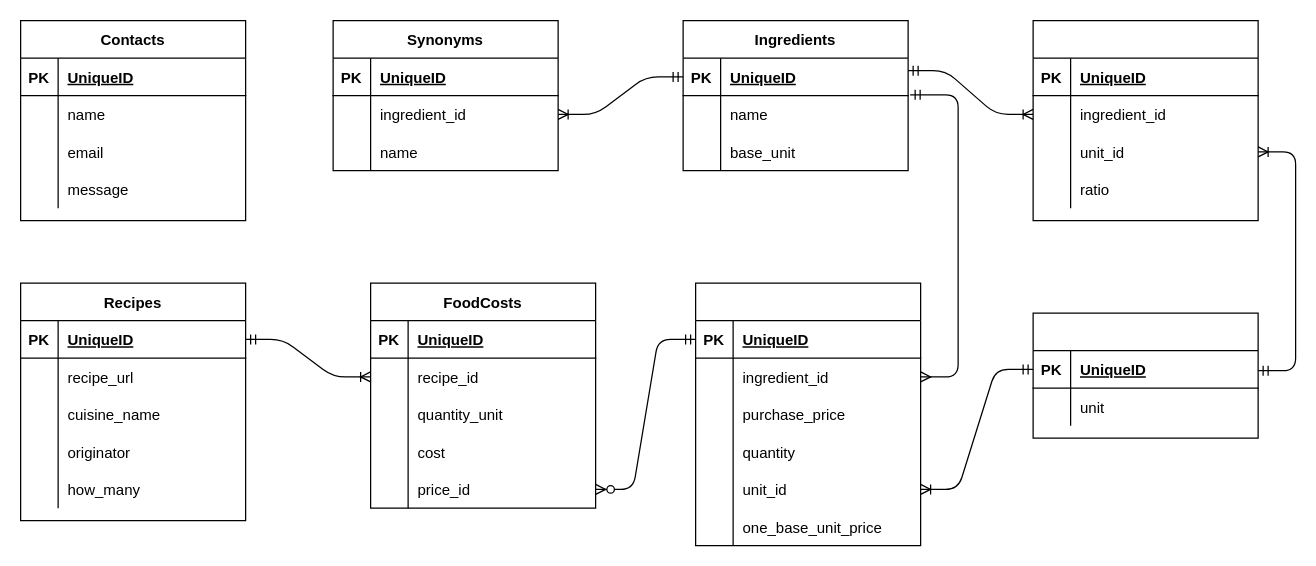
This 1316x566 diagram has some shape labels left out. The box of each missing label's shape, as (x1, y1, x2, y2) in pixels:
IngredientUnits: (1032, 19, 1258, 221)
Prices: (694, 282, 921, 546)
Units: (1032, 312, 1258, 438)
